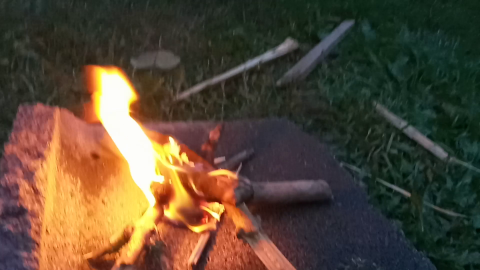fire: (75, 62, 255, 240)
